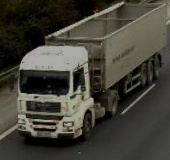truck: (13, 2, 170, 144)
